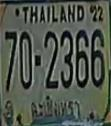0: (18, 31, 34, 90)
2: (43, 29, 59, 89)
3: (60, 29, 74, 90)
6: (90, 29, 106, 86), (75, 29, 89, 87)
7: (5, 30, 17, 91)
CCO: (26, 94, 86, 118)
